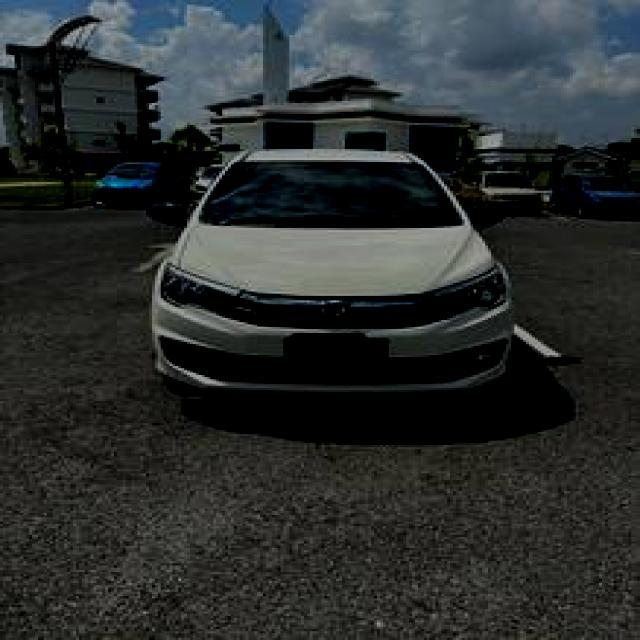PeroduaBezza: (146, 145, 515, 405)
